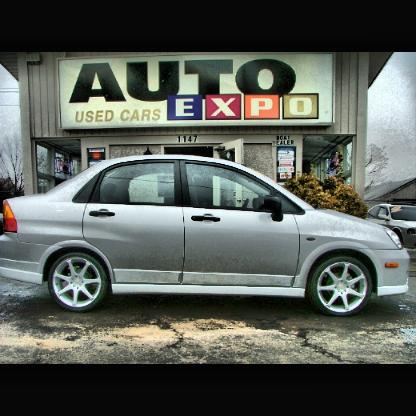Suzuki Aerio Sedan 2007: (6, 155, 413, 319)
